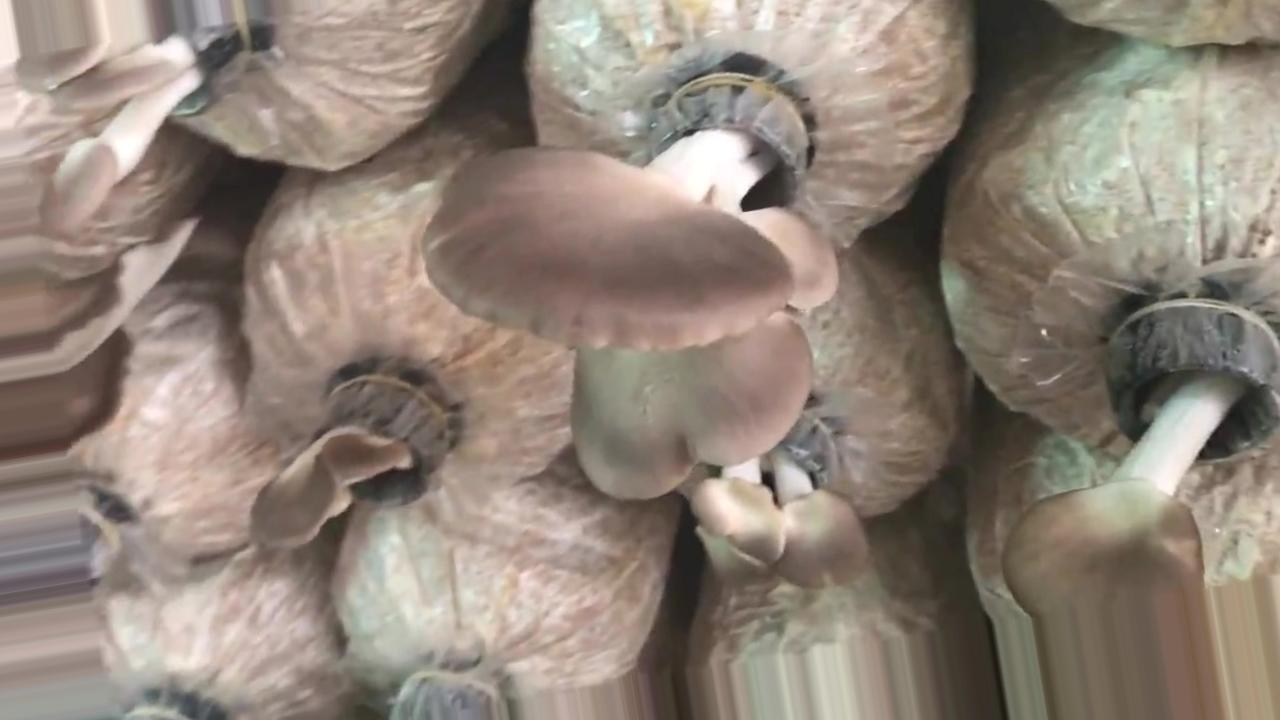nam: (424, 76, 837, 499), (1000, 299, 1280, 717), (16, 1, 272, 238), (248, 378, 435, 549), (688, 414, 860, 589)
